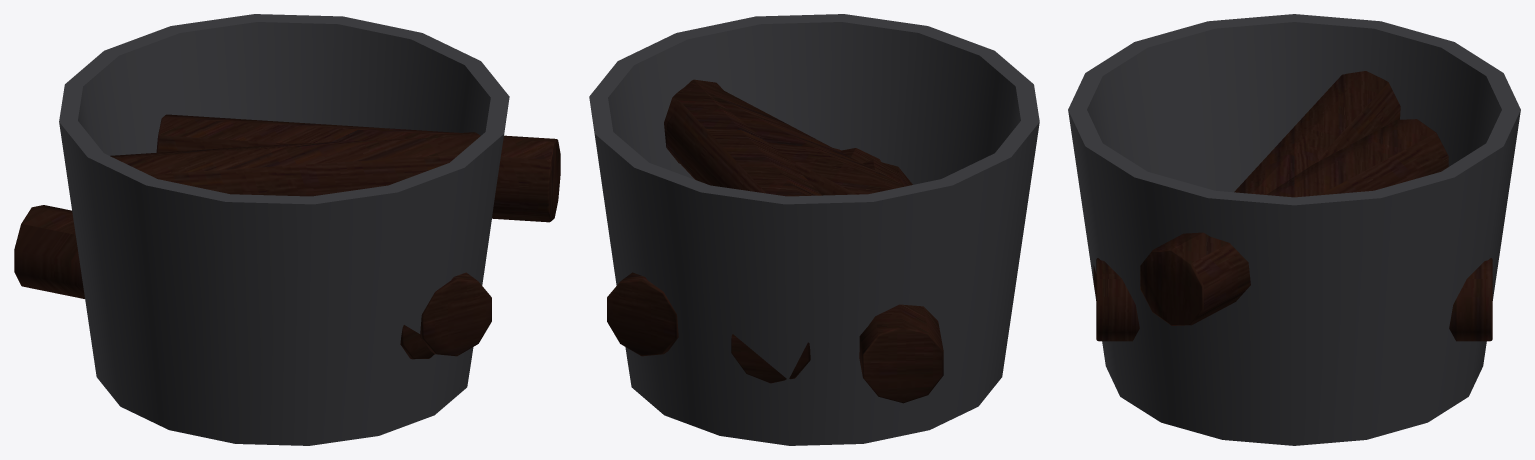
Rendered from log_basket.glb.
3 views of the same model, side by side, from view 1: azimuth 30°, elevation 25°; view 2: azimuth 150°, elevation 25°; view 3: azimuth 270°, elevation 25° (orthographic).
Parts seen in each view (by area): view 1: Log basket, Log bark; view 2: Log basket, Log bark; view 3: Log basket, Log bark.
Part boxes in pixels (x1,y1,x2,y2): Log basket: (59,14,509,445); Log bark: (14,114,560,359); Log basket: (589,14,1039,445); Log bark: (607,79,943,403); Log basket: (1068,14,1520,445); Log bark: (1093,71,1492,341).
Size of the model in its own units: 0.5234 by 0.3 by 0.48.
Materials: 2 (1 with a texture image).
